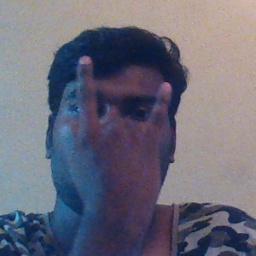V: (64, 51, 182, 219)
